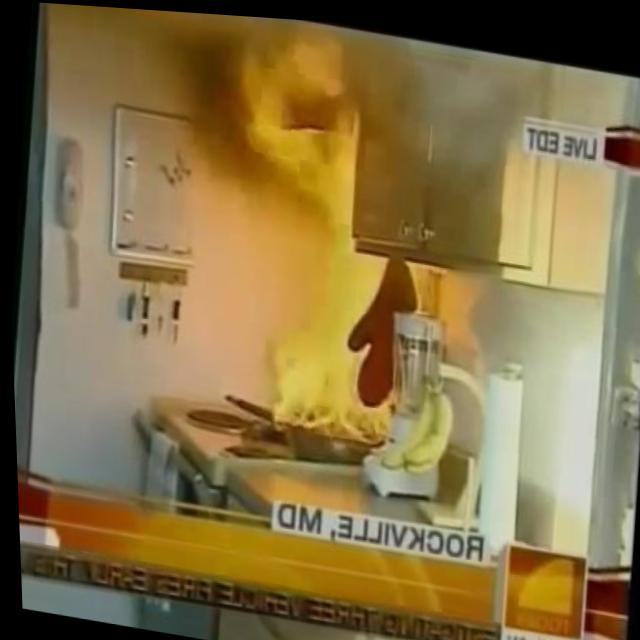fire: (256, 229, 391, 436)
